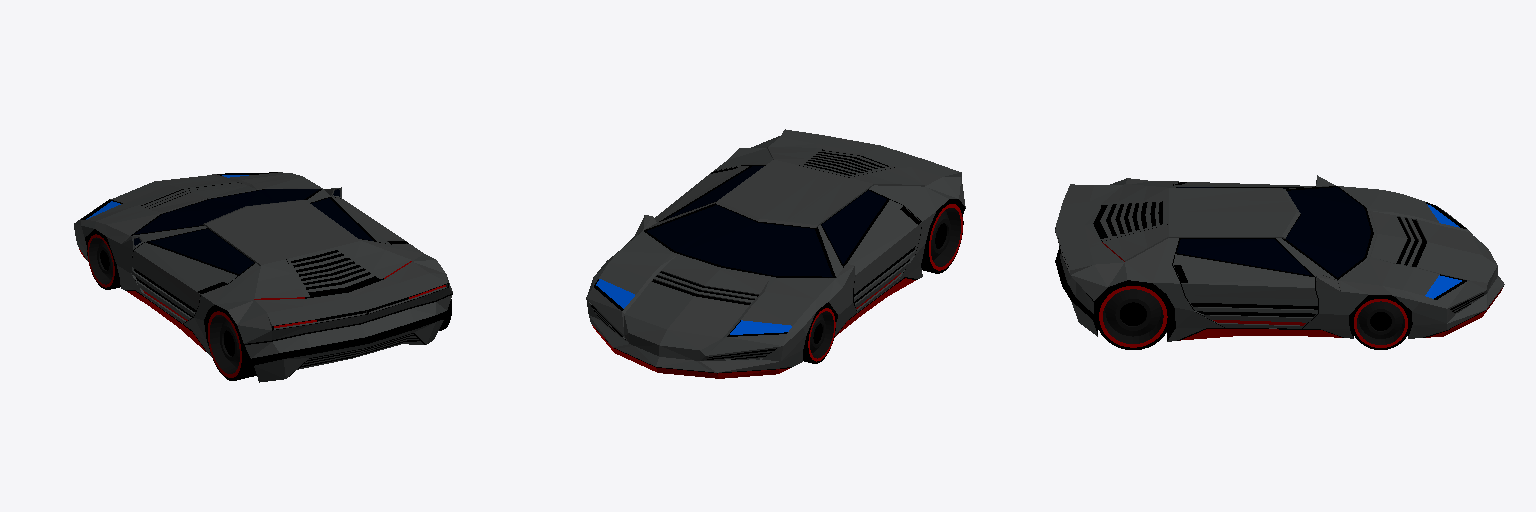
File: carNew.obj
3 renders of one model, left to right at view 1: azimuth 30°, elevation 25°; view 2: azimuth 150°, elevation 25°; view 3: azimuth 270°, elevation 25°, orthographic.
Parts seen in each view (by area): view 1: Car_Cube, Wheel.002_Cylinder.000, Wheel.003_Cylinder.003; view 2: Car_Cube, Wheel.002_Cylinder.000, Wheel.003_Cylinder.003; view 3: Car_Cube, Wheel_Cylinder.001, Wheel.001_Cylinder.002.
Part boxes in pixels (x1,y1,x2,y2): Car_Cube: (74,172,452,382); Wheel.002_Cylinder.000: (207,307,256,380); Wheel.003_Cylinder.003: (87,231,120,289); Car_Cube: (586,129,965,378); Wheel.002_Cylinder.000: (921,199,963,273); Wheel.003_Cylinder.003: (803,305,835,363); Car_Cube: (1055,175,1504,341); Wheel_Cylinder.001: (1095,280,1170,349); Wheel.001_Cylinder.002: (1351,295,1410,349).
Size of the model in its own units: 5.89 by 2.35 by 10.92.